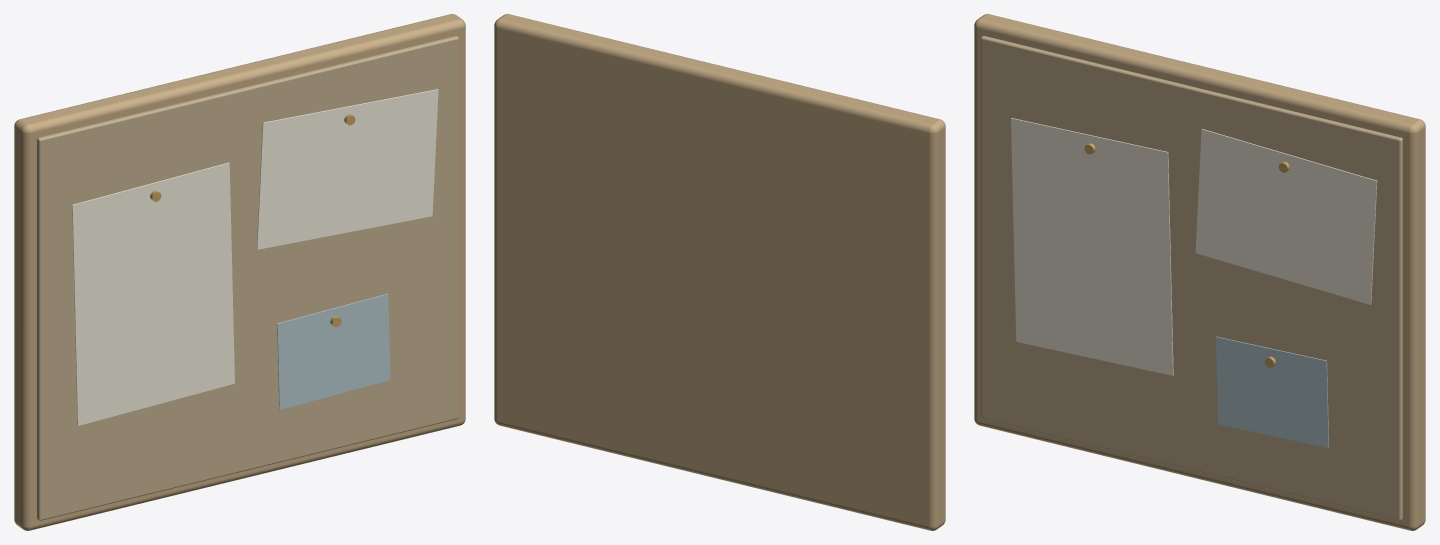
Rendered from urban-study-pinboard-v1.glb.
3 views of the same model, side by side, from view 1: azimuth 30°, elevation 25°; view 2: azimuth 150°, elevation 25°; view 3: azimuth 330°, elevation 25° (orthographic).
Visible parts, largest first — view 1: Cork-board, Calendar-paper, Pinboard-frame, Drawing-postcard, Small-study-note; view 2: Pinboard-frame; view 3: Cork-board, Calendar-paper, Pinboard-frame, Drawing-postcard, Small-study-note.
Part boxes in pixels (x1,y1,x2,y2): Cork-board: [37, 36, 458, 520]; Calendar-paper: [72, 162, 234, 425]; Pinboard-frame: [14, 14, 465, 530]; Drawing-postcard: [257, 89, 438, 249]; Small-study-note: [277, 293, 390, 409]; Pinboard-frame: [494, 14, 945, 530]; Cork-board: [981, 36, 1402, 520]; Calendar-paper: [1011, 118, 1173, 375]; Pinboard-frame: [974, 14, 1425, 530]; Drawing-postcard: [1195, 129, 1377, 304]; Small-study-note: [1216, 336, 1329, 448].
Bounding box in the file's own units: 0.48 × 0.42 × 0.0385.
